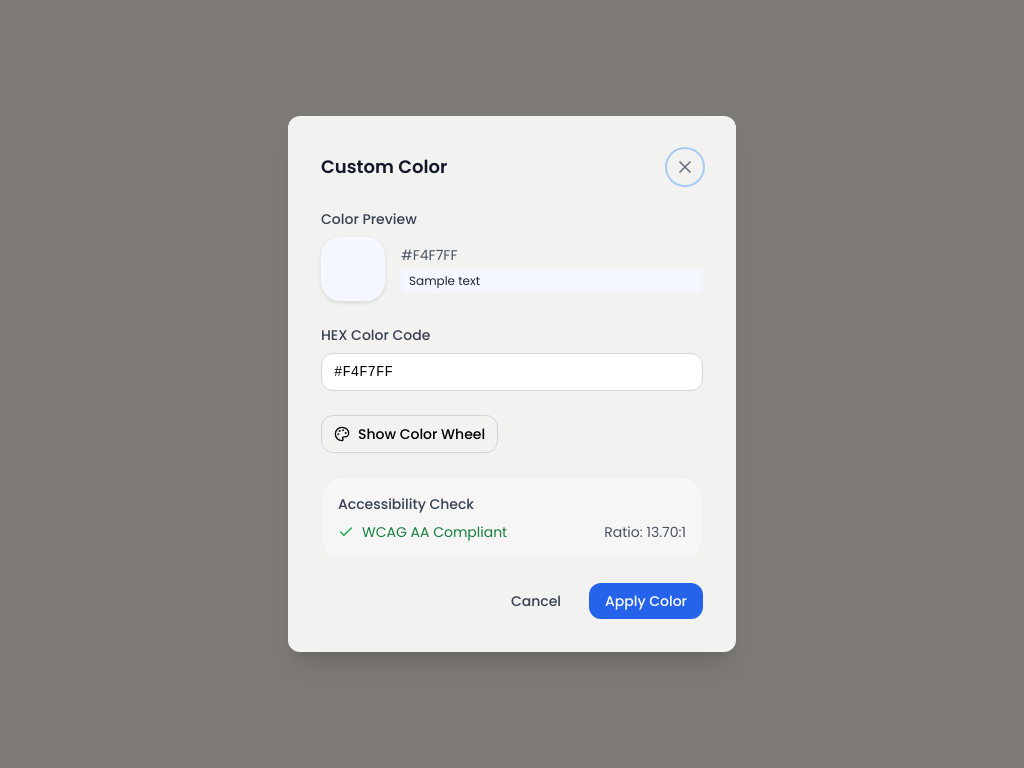
Test: AdvancedColorModal › disables Apply button for invalid colors
Replace the text in the field with test id "hex-input" with "invalid" at point(512, 372), box [321,353,703,391]
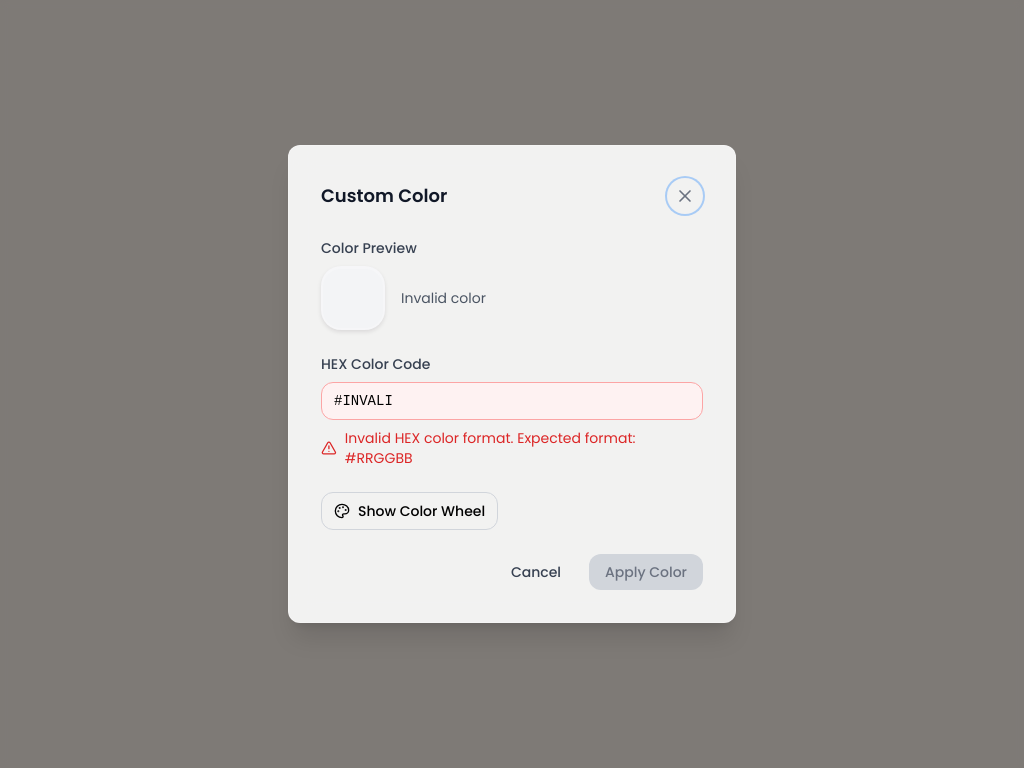
Expected: the button with test id "apply-button" is disabled, [589,554,703,590]
